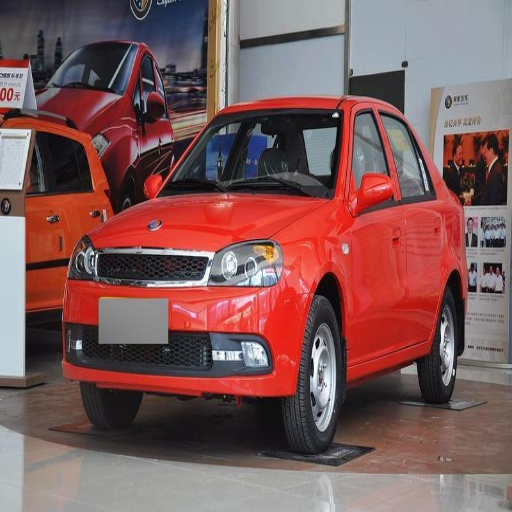front_bumper: (67, 250, 310, 394)
front_glass: (160, 110, 341, 197), (54, 43, 133, 91)
front_left_door: (347, 107, 407, 360)
trunk: (446, 210, 474, 277)
